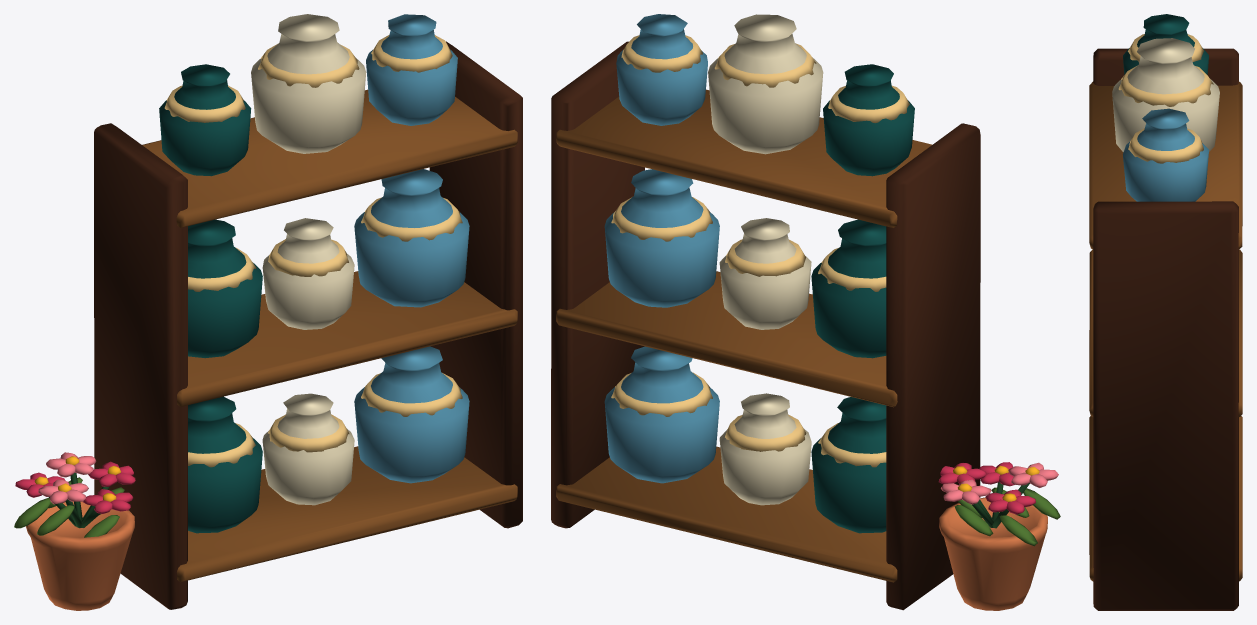
File: Decor_CeramicShelf.glb
3 renders of one model, left to right at view 1: azimuth 30°, elevation 25°; view 2: azimuth 150°, elevation 25°; view 3: azimuth 270°, elevation 25°, orthographic. The views are drawn at different scales.
Parts seen in each view (by area): view 1: Decor_CeramicShelf.001; view 2: Decor_CeramicShelf.001; view 3: Decor_CeramicShelf.001.
Part boxes in pixels (x1,y1,x2,y2): Decor_CeramicShelf.001: (14, 14, 522, 610); Decor_CeramicShelf.001: (551, 14, 1060, 610); Decor_CeramicShelf.001: (1089, 14, 1242, 610).
Size of the model in its own units: 1.29 by 1.38 by 0.3987.
1 material, 1 textured.
